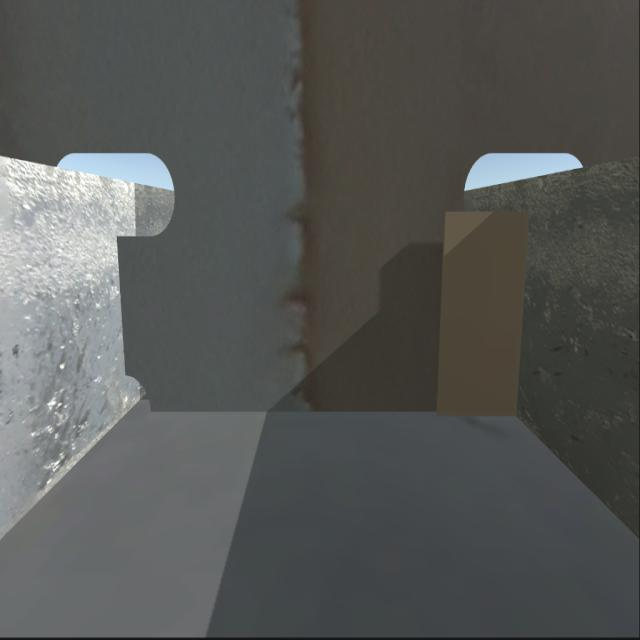fillet_hole: (124, 370, 153, 408)
fillet_yong_jeop_jang: (148, 410, 518, 418)
longi_yong_jeop_jang: (514, 216, 531, 416), (118, 237, 126, 378)
plate_CP01: (434, 212, 524, 416)
